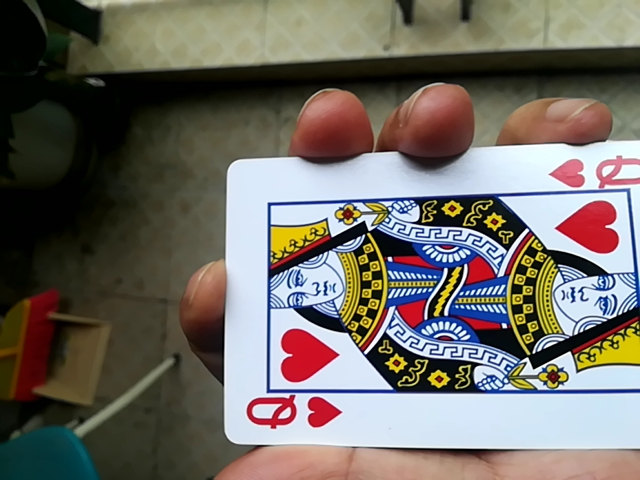hx q: (227, 146, 637, 449)
